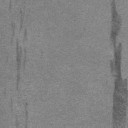red iron: (110, 0, 128, 128), (16, 42, 22, 70), (17, 73, 20, 85)
